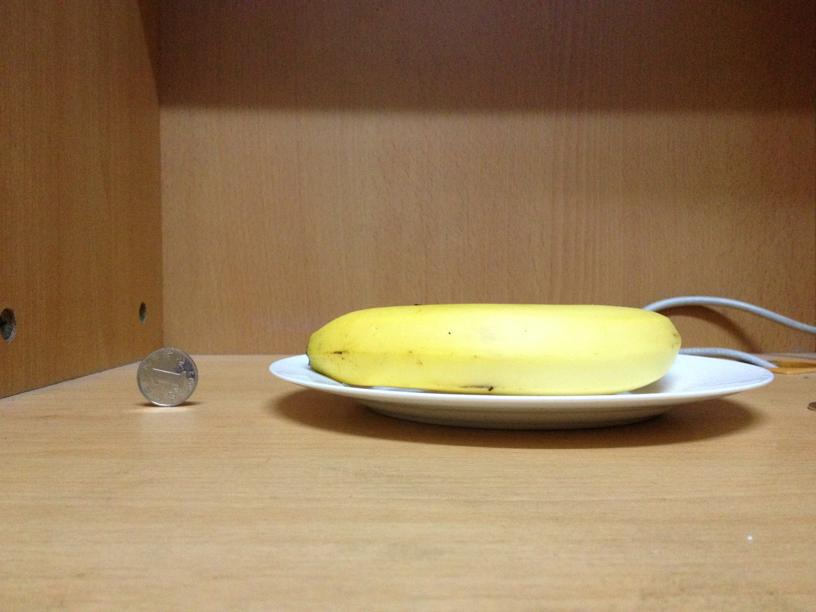banana: (303, 304, 680, 395)
coin: (135, 345, 198, 407)
